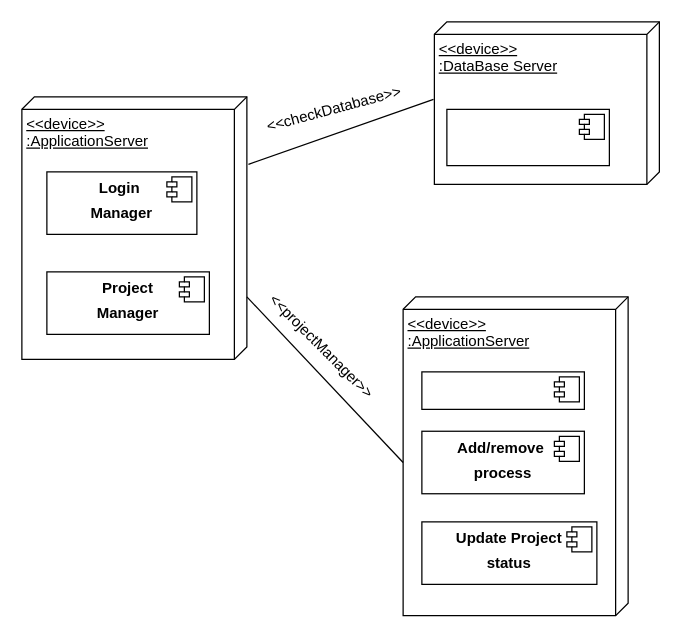
Some shapes in this 681 by 638 pixel diagram are drawn without their labels. Here are the shapes that lost their labels. From the top down, the centre of each, then its label:
point 527,137: Check credentials
point 502,390: Select Project
